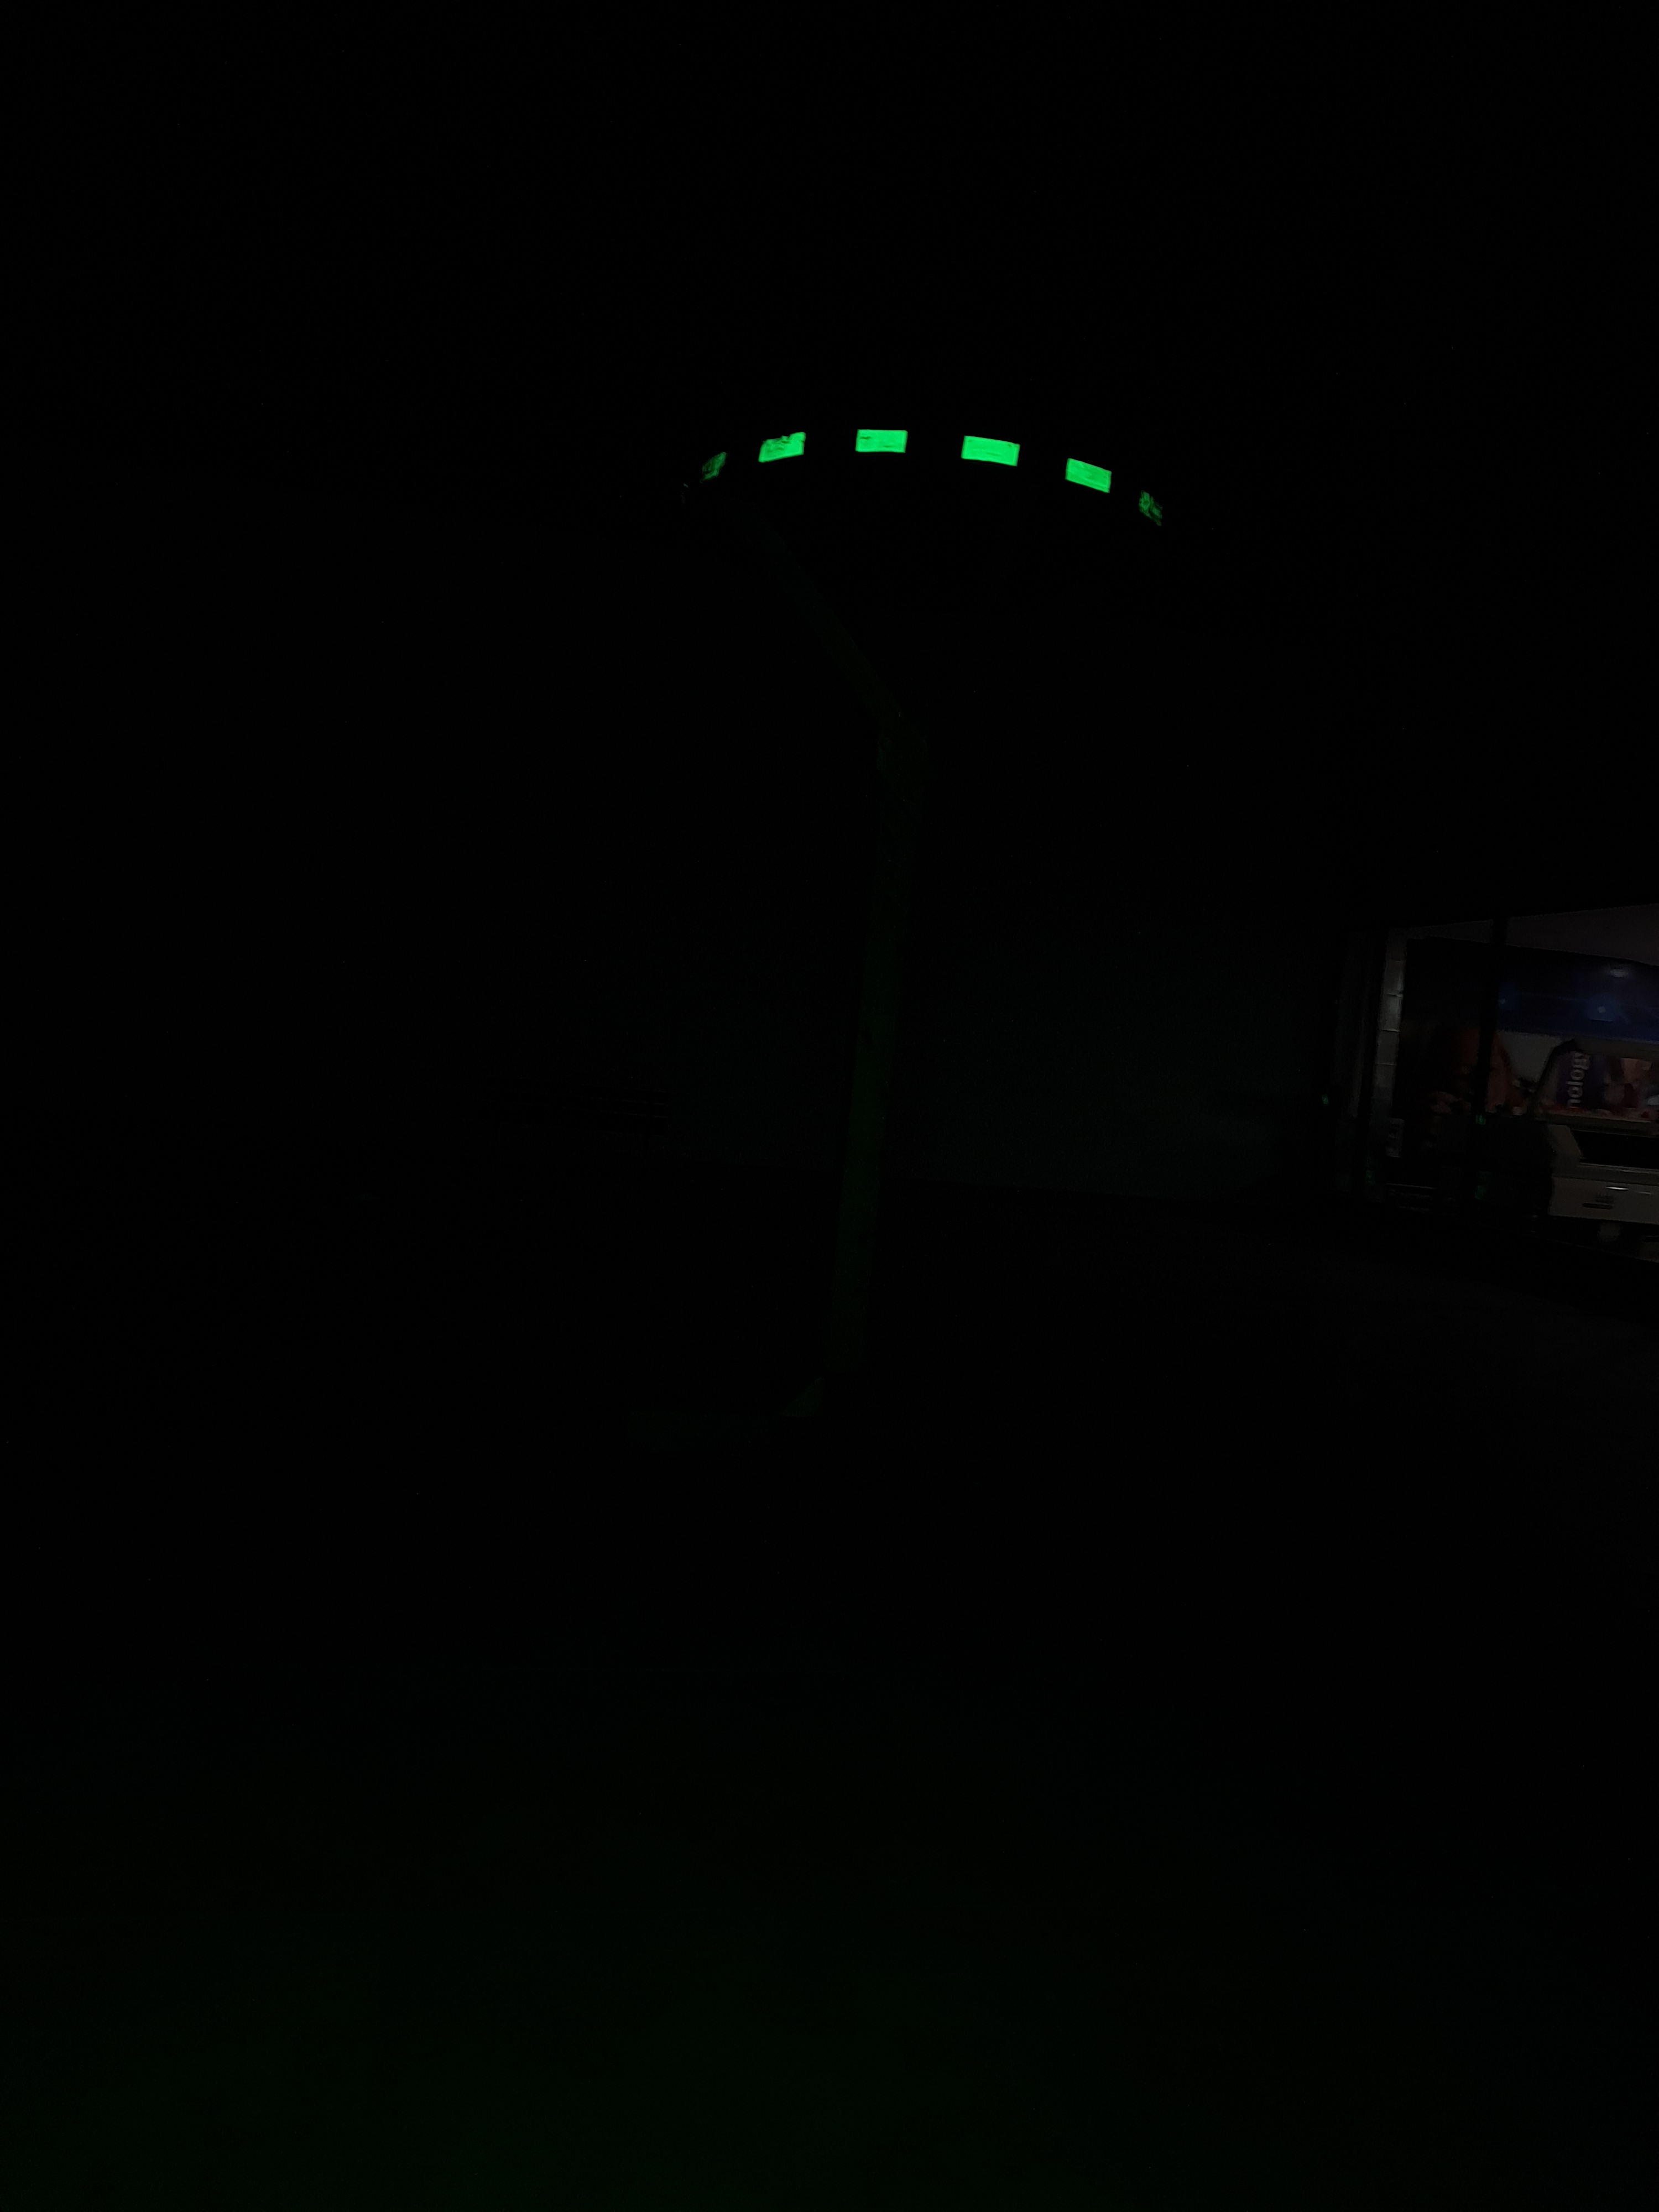hoop: (653, 390, 1187, 545)
